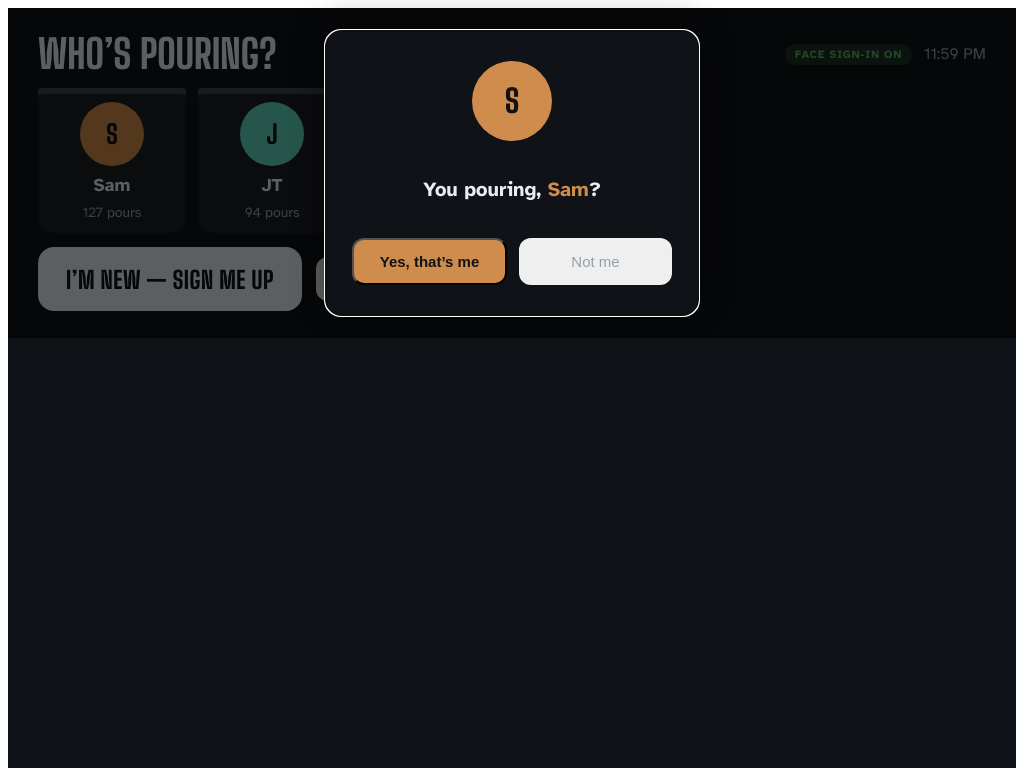
Test: TabletPage (design 3a) › face sign-in pipeline (Task 7) › "Not me" dismisses without arming
The image size is (1024, 768).
Expected: the element with test id "face-confirm-sheet" is shown, [8,8,1016,338]
What coordinates should you click on to do the following:
click the button with test id "face-confirm-no"
I would click on:
 (596, 261)
Its box is [519,238,672,285].
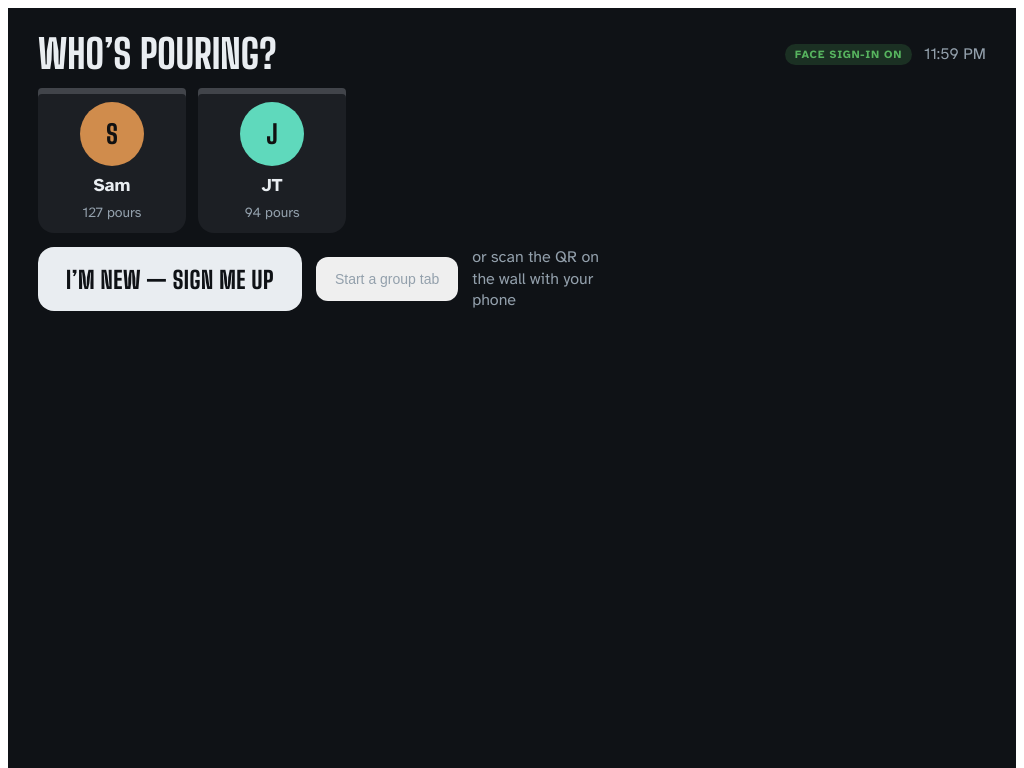
Result: the element with test id "face-confirm-sheet" is gone
